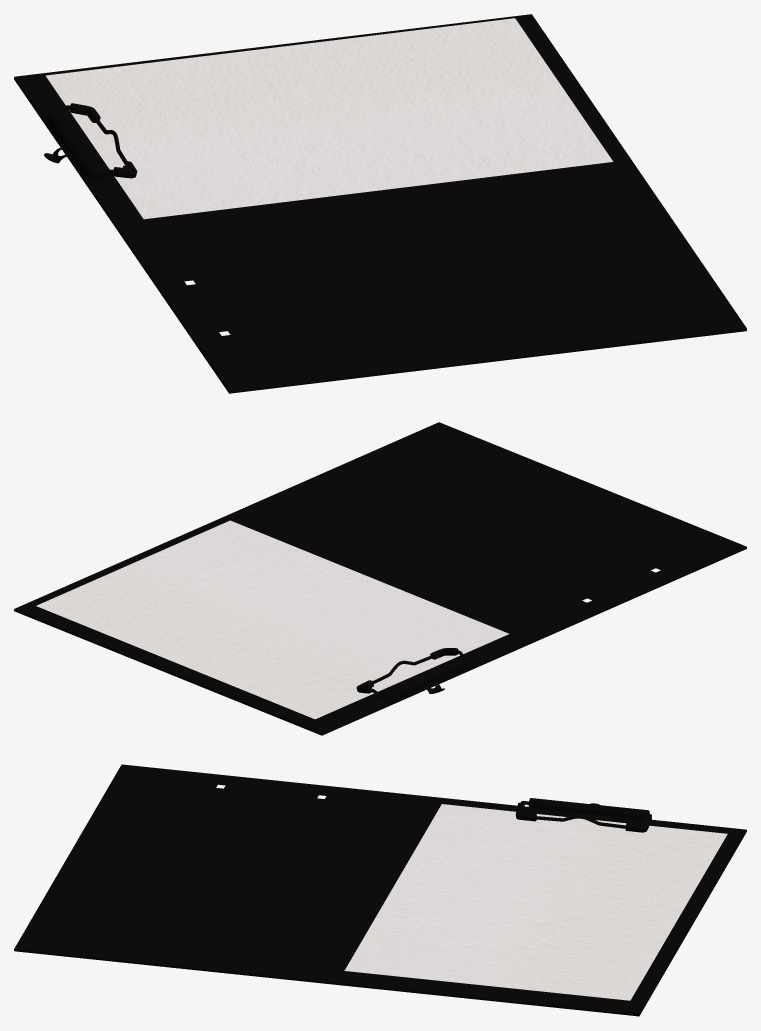
The model's file is clipboard.fbx.
3 views of the same model, one above another, from view 1: azimuth 30°, elevation 25°; view 2: azimuth 150°, elevation 25°; view 3: azimuth 270°, elevation 25° (orthographic). The views are drawn at different scales.
Visible parts, largest first — view 1: clipboard_body, clipboard_paper, clipboard, clipboard_metal; view 2: clipboard_body, clipboard_paper, clipboard, clipboard_metal; view 3: clipboard_body, clipboard_paper, clipboard, clipboard_metal, clipboard_plastic.
Boxes of the visible parts, <box> form: clipboard_body: <box>121,171,746,393</box>; clipboard_paper: <box>46,18,613,219</box>; clipboard: <box>14,14,638,235</box>; clipboard_metal: <box>44,105,126,187</box>; clipboard_body: <box>227,422,746,642</box>; clipboard_paper: <box>36,520,508,719</box>; clipboard: <box>14,515,534,735</box>; clipboard_metal: <box>361,650,468,703</box>; clipboard_body: <box>14,764,433,983</box>; clipboard_paper: <box>344,804,727,1000</box>; clipboard: <box>326,797,746,1016</box>; clipboard_metal: <box>521,798,656,828</box>; clipboard_plastic: <box>515,802,651,832</box>.
Bounding box in the file's own units: 42.05 × 1.42 × 52.25.
4 materials, 1 textured.
